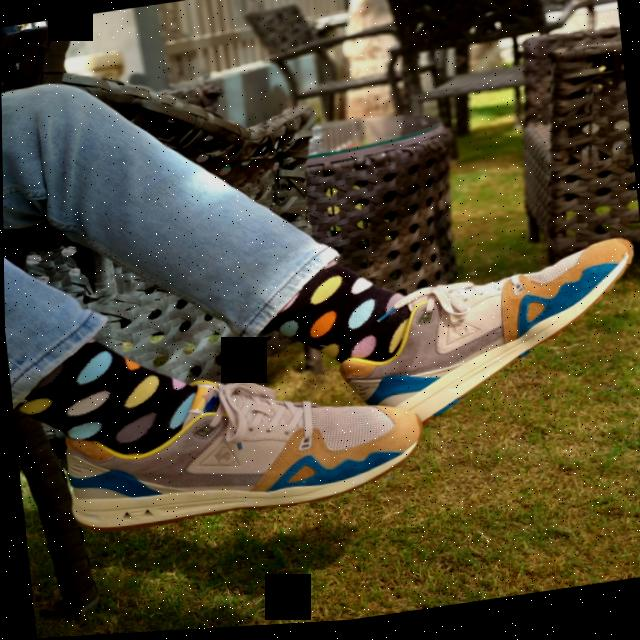shoes: (43, 353, 427, 547), (320, 239, 640, 446)
